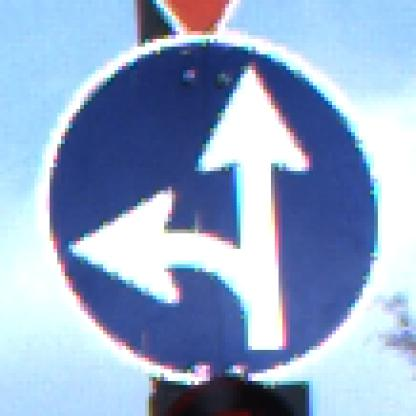Straight or Left: (35, 36, 383, 382)
